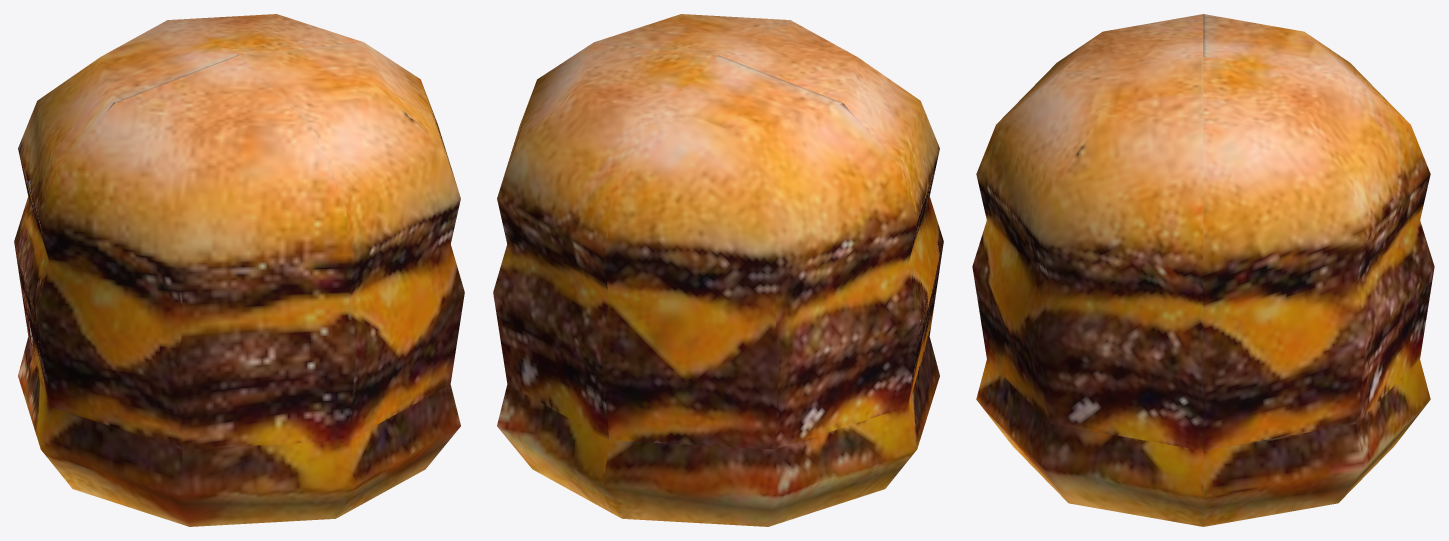
Rendered from burgerAmmo.glb.
3 renders of one model, left to right at view 1: azimuth 30°, elevation 25°; view 2: azimuth 150°, elevation 25°; view 3: azimuth 270°, elevation 25°, orthographic.
Visible parts, largest first — view 1: Burger; view 2: Burger; view 3: Burger.
Part boxes in pixels (left/top/right/bottom): Burger: left=14, top=14, right=464, bottom=526; Burger: left=493, top=14, right=943, bottom=526; Burger: left=972, top=14, right=1434, bottom=526.
Bounding box in the file's own units: 0.2087 × 0.194 × 0.2087.
1 material, 1 textured.
